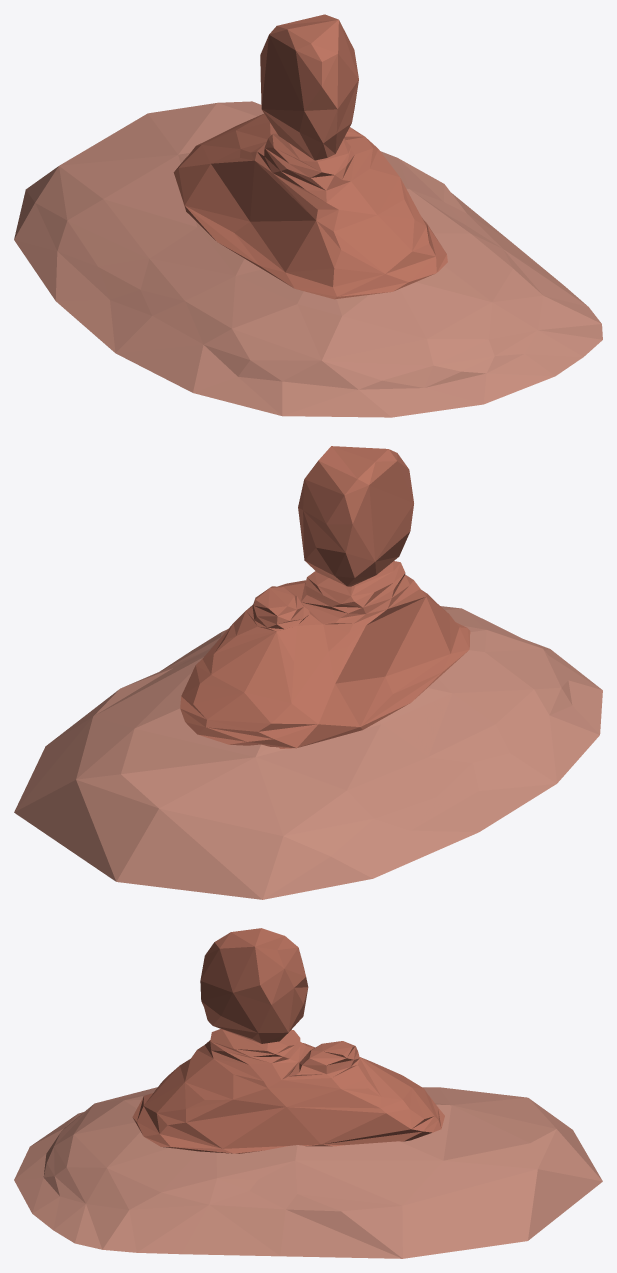
The model's file is rock_016.fbx.
3 views of the same model, one above another, from view 1: azimuth 30°, elevation 25°; view 2: azimuth 150°, elevation 25°; view 3: azimuth 270°, elevation 25° (orthographic). The views are drawn at different scales.
Parts seen in each view (by area): view 1: rock_016; view 2: rock_016; view 3: rock_016.
Part boxes in pixels (left/top/right/bottom): rock_016: left=14, top=14, right=602, bottom=417; rock_016: left=14, top=446, right=602, bottom=899; rock_016: left=14, top=928, right=602, bottom=1258.
Size of the model in its own units: 1599 by 2342 by 1023.
